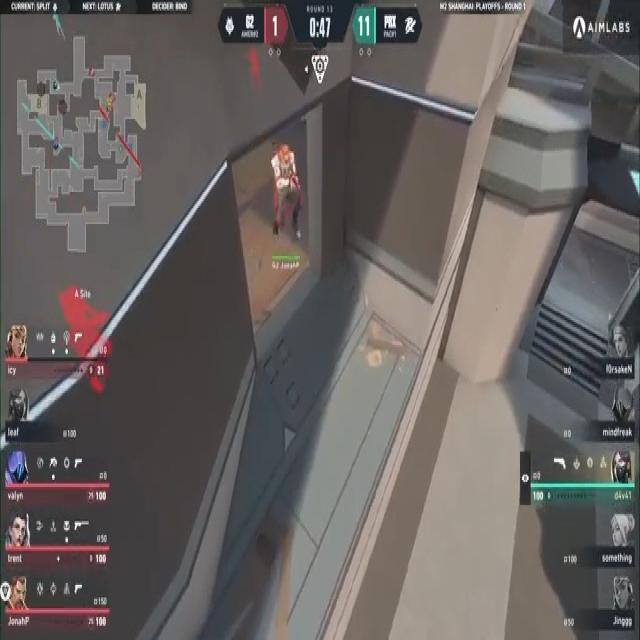enemy: (262, 135, 304, 248)
